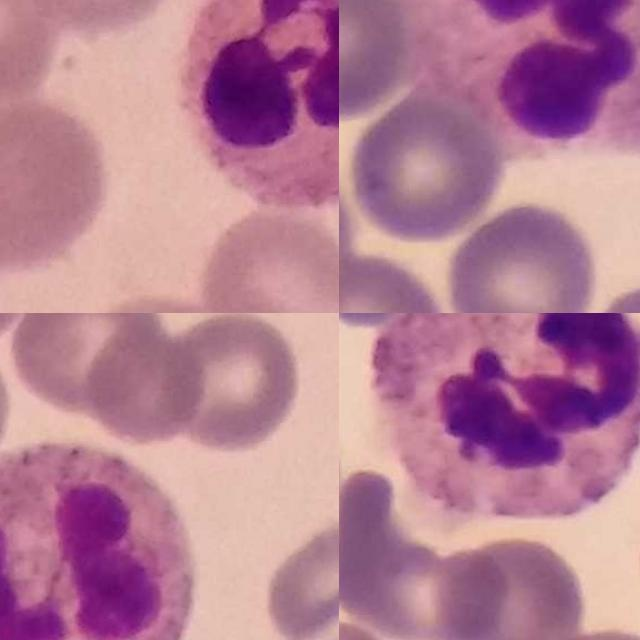Neutrophil: (371, 313, 640, 520), (0, 441, 194, 640), (398, 0, 640, 148), (187, 0, 339, 214)
